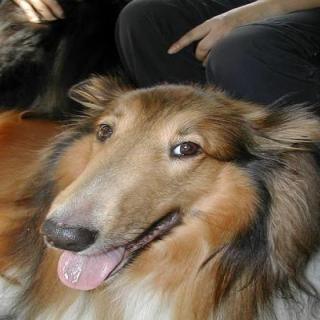dog: (18, 73, 315, 290)
nose: (37, 214, 97, 256)
